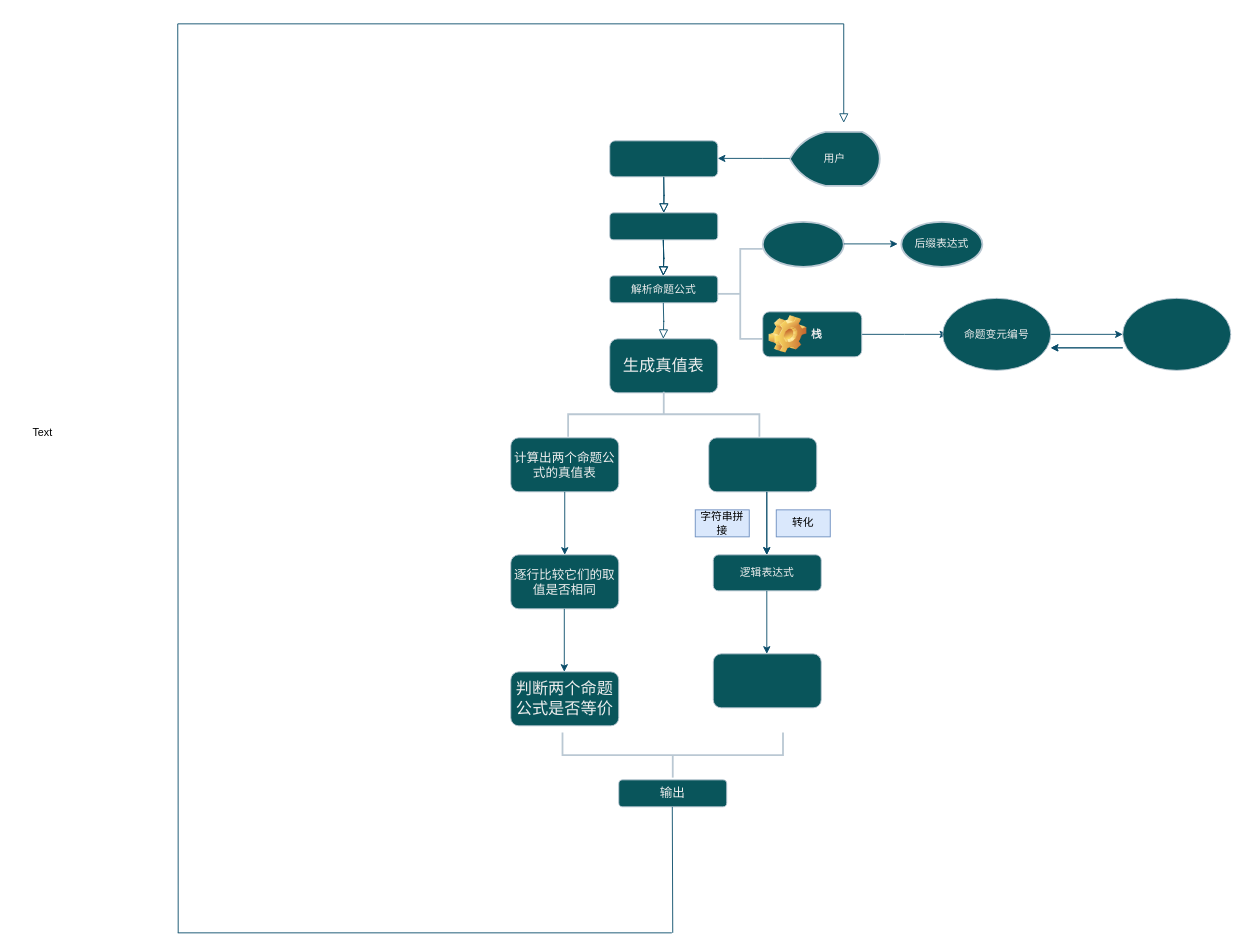
The diagram is 1247 pixels wide and 950 high, and some of its shapes have lost their labels. The centre of each missing label's shape, as x and y in pixels:
"中缀表达式" belongs at point (802, 243).
"主合取范式/主析取范式" belongs at point (766, 680).
"变量名" belongs at point (1176, 333).
"找出所有取值为1或0的行" belongs at point (762, 464).
"读取命题公式" belongs at point (663, 226).
"输入命题公式" belongs at point (663, 158).
